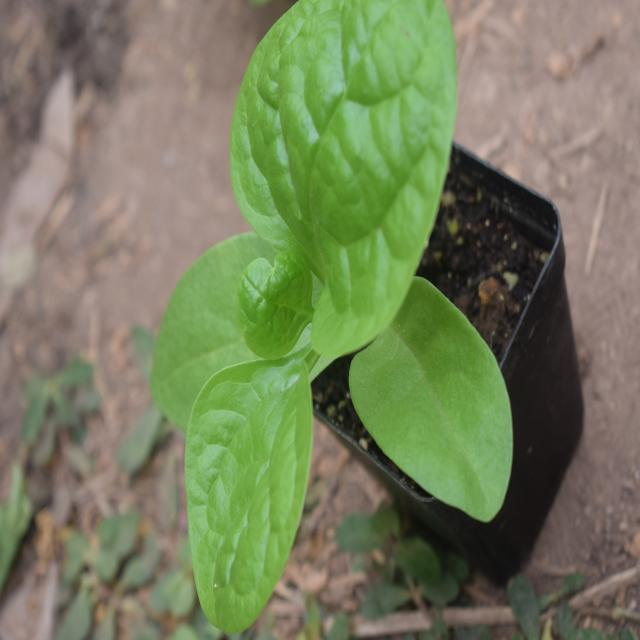Ceylon spinach: (157, 0, 525, 585)
